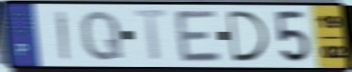5: (274, 9, 312, 64)
D: (225, 9, 272, 64)
E: (173, 8, 225, 65)
I: (55, 9, 71, 62)
Q: (79, 8, 126, 63)
T: (131, 8, 173, 64)
